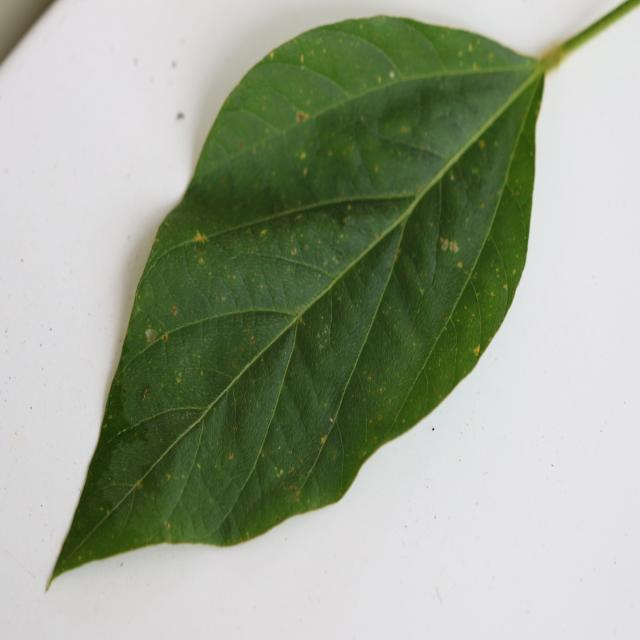Soybean: (45, 14, 609, 588)
downey_mildew: (370, 158, 512, 446), (366, 66, 534, 193), (130, 301, 262, 454), (292, 264, 386, 436), (234, 205, 391, 306), (144, 229, 277, 347), (409, 207, 485, 348), (199, 103, 314, 195), (144, 400, 224, 531), (188, 385, 263, 524), (490, 92, 541, 289), (249, 383, 323, 512), (351, 304, 421, 429), (301, 120, 394, 204), (273, 30, 399, 92), (387, 179, 443, 318), (279, 332, 338, 455), (346, 22, 445, 77), (108, 404, 215, 449), (260, 250, 338, 307), (437, 157, 478, 254), (432, 223, 479, 306), (476, 231, 509, 346), (199, 248, 253, 318), (237, 80, 312, 129), (209, 116, 269, 162), (133, 276, 156, 327)
